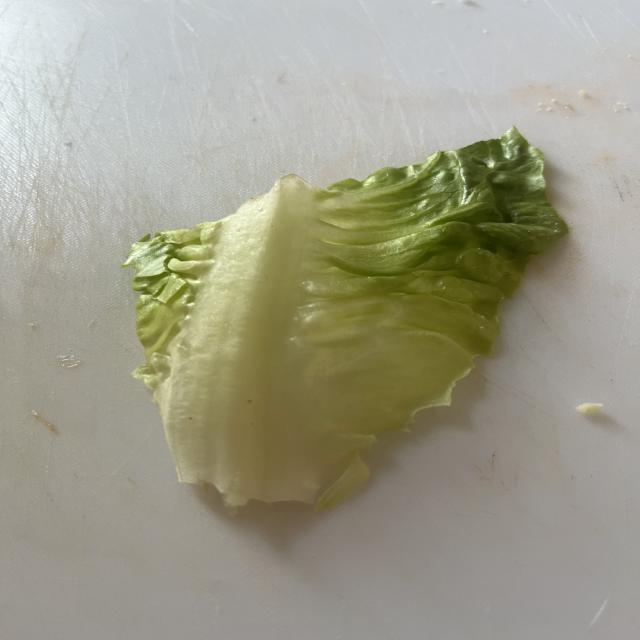lettuce: (123, 128, 566, 510)
